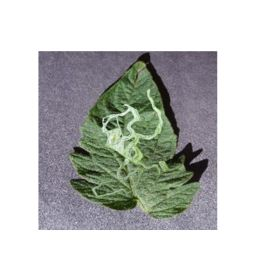liriomyza: (100, 89, 163, 181), (92, 181, 128, 198)
